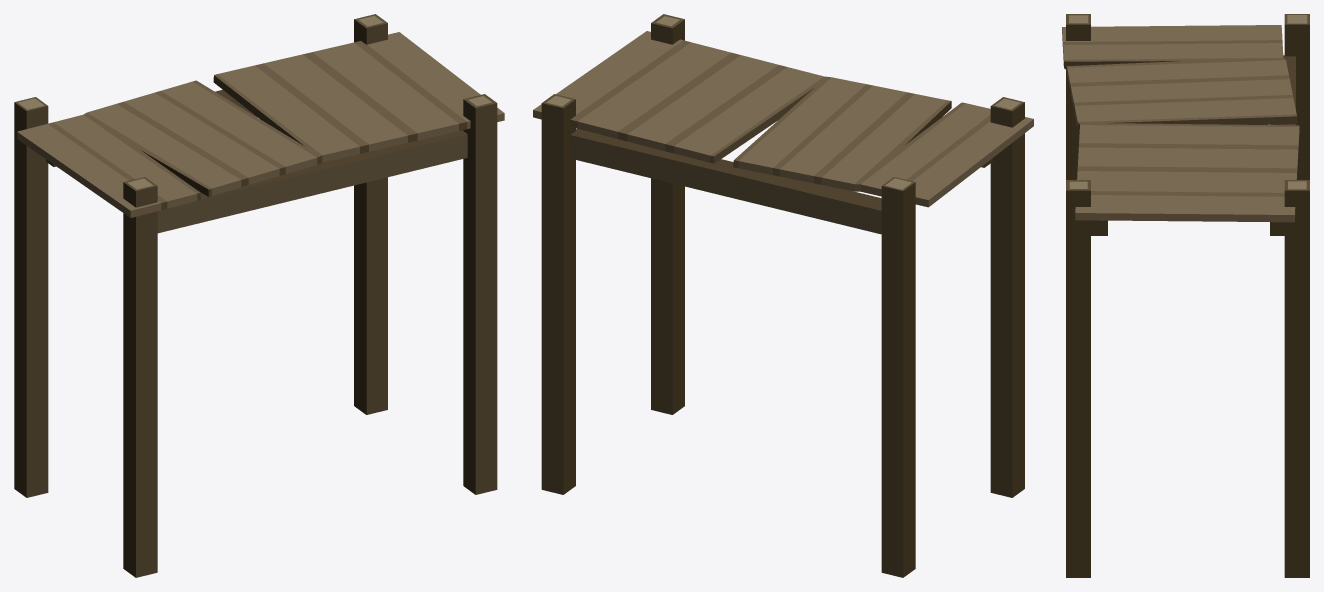
Rendered from Walkway_02.gltf.
3 views of the same model, side by side, from view 1: azimuth 30°, elevation 25°; view 2: azimuth 150°, elevation 25°; view 3: azimuth 270°, elevation 25° (orthographic).
Parts seen in each view (by area): view 1: SF_Prop_Walkway_02; view 2: SF_Prop_Walkway_02; view 3: SF_Prop_Walkway_02.
Boxes of the visible parts, bbox=[...] form: SF_Prop_Walkway_02: bbox=[14, 14, 504, 577]; SF_Prop_Walkway_02: bbox=[533, 14, 1033, 577]; SF_Prop_Walkway_02: bbox=[1062, 14, 1309, 577].
Bounding box in the file's own units: 0.063 × 0.0599 × 0.0347.
Materials: 1 (1 with a texture image).
